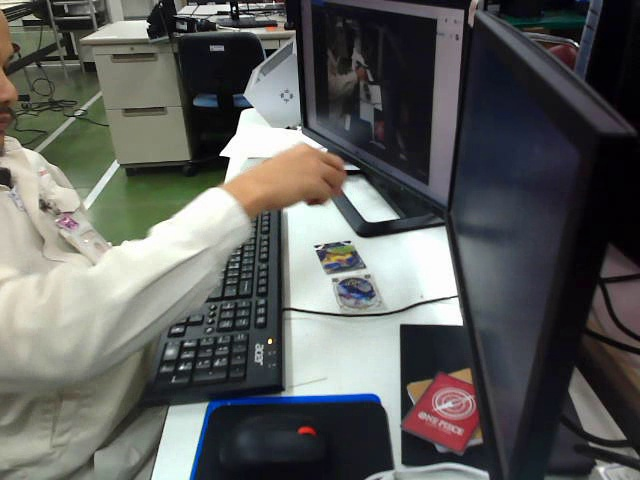can: (309, 236, 367, 273)
